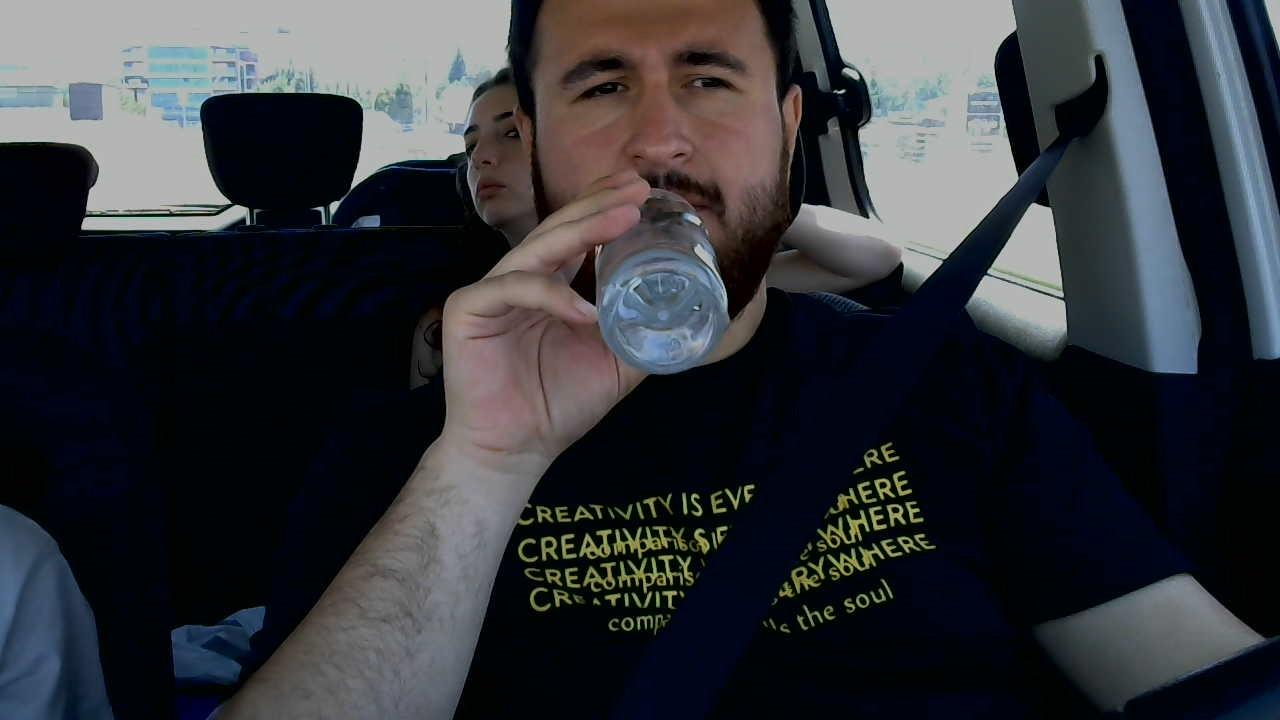Drinking: (577, 183, 728, 375)
